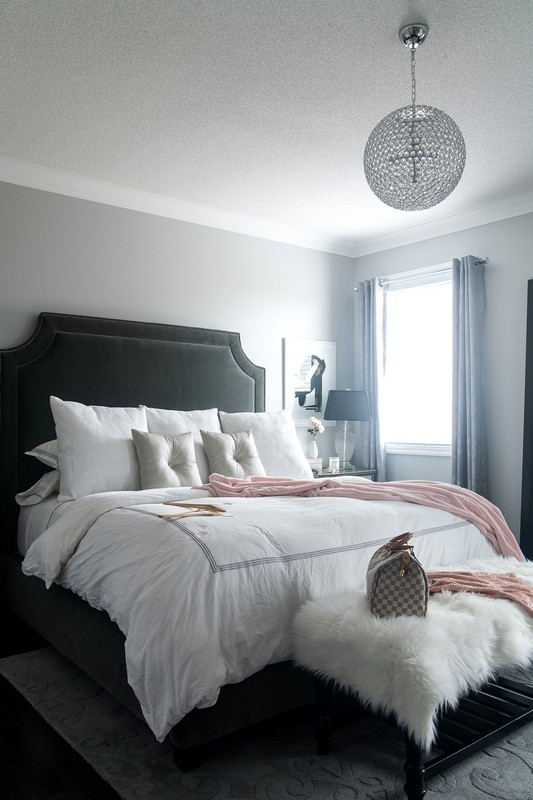bed: (8, 317, 488, 756)
lamp: (323, 384, 370, 471)
stool: (294, 564, 528, 761)
